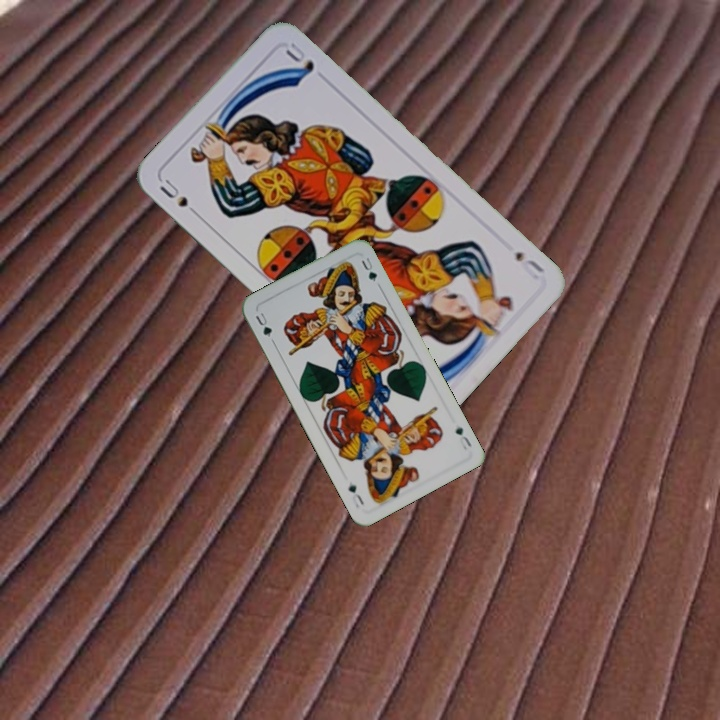GU: (251, 308, 277, 345), (451, 422, 474, 452)
SU: (155, 175, 204, 221), (511, 247, 548, 283)
